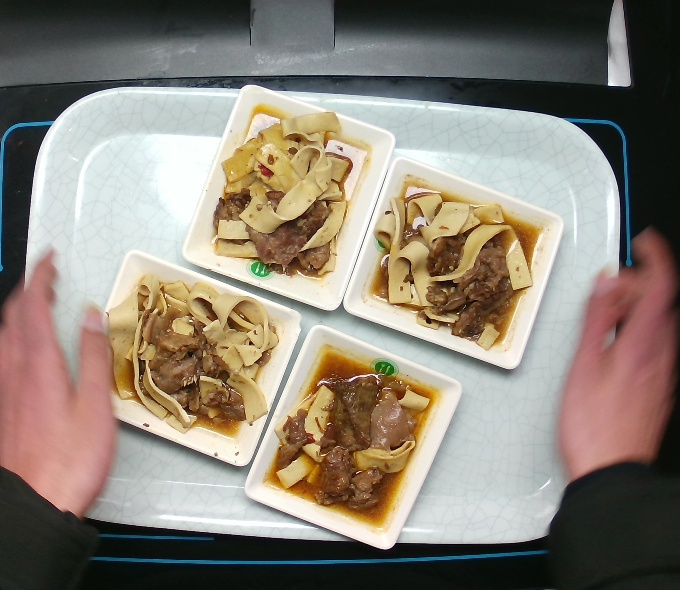wcq-QianZhangNiuNan: (97, 266, 289, 442), (366, 184, 544, 356), (266, 367, 435, 517), (209, 109, 354, 279)
